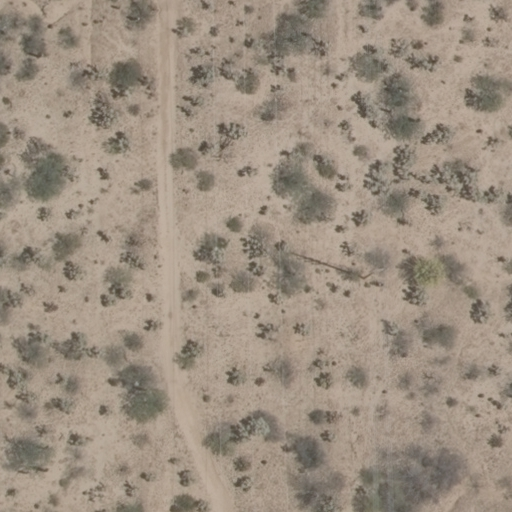DT: (358, 258, 393, 283)
